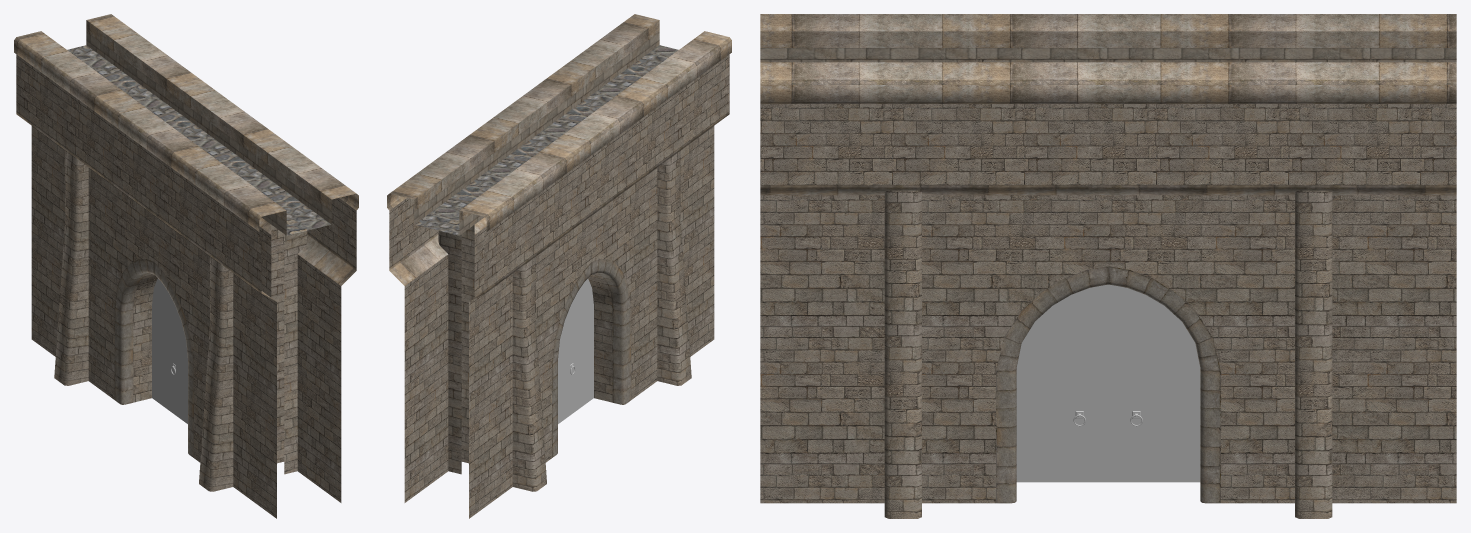
Rendered from mw_city_walls_02.FBX.
3 views of the same model, side by side, from view 1: azimuth 30°, elevation 25°; view 2: azimuth 150°, elevation 25°; view 3: azimuth 270°, elevation 25° (orthographic). The views are drawn at different scales.
Parts seen in each view (by area): view 1: mw_city_walls_02, mw_city_gates_01_L; view 2: mw_city_walls_02, mw_city_gates_01_R; view 3: mw_city_walls_02, mw_city_gates_01_R, mw_city_gates_01_L.
Boxes of the visible parts, x1=… form: mw_city_walls_02: x1=14, y1=14, x2=358, y2=518; mw_city_gates_01_L: x1=152, y1=278, x2=184, y2=421; mw_city_walls_02: x1=387, y1=14, x2=731, y2=518; mw_city_gates_01_R: x1=561, y1=278, x2=593, y2=421; mw_city_walls_02: x1=760, y1=14, x2=1456, y2=518; mw_city_gates_01_R: x1=1016, y1=284, x2=1108, y2=482; mw_city_gates_01_L: x1=1108, y1=284, x2=1200, y2=482.
Bounding box in the file's own units: 528 × 1406 × 2044.
